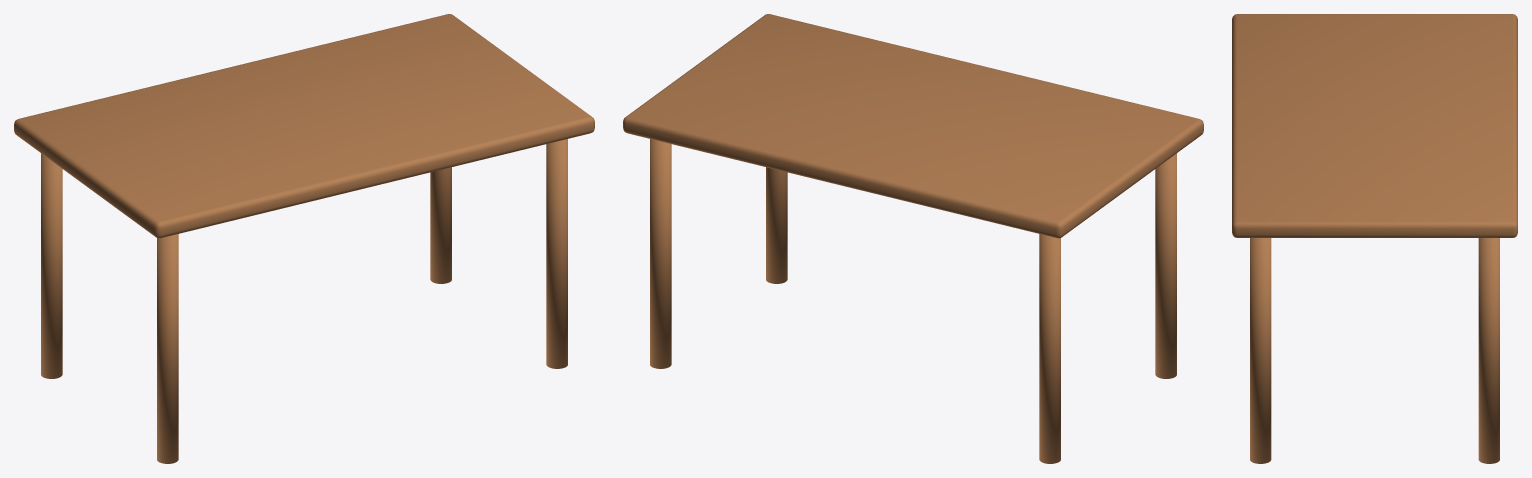
Rendered from table.glb.
3 renders of one model, left to right at view 1: azimuth 30°, elevation 25°; view 2: azimuth 150°, elevation 25°; view 3: azimuth 270°, elevation 25°, orthographic.
Visible parts, largest first — view 1: top, leg.008, leg.010, leg.009, leg.011; view 2: top, leg.009, leg.011, leg.008, leg.010; view 3: top, leg.010, leg.011.
Boxes of the visible parts, <box> form: top: <box>14,14,594,238</box>; leg.008: <box>157,234,178,463</box>; leg.010: <box>546,139,567,368</box>; leg.009: <box>41,153,62,378</box>; leg.011: <box>430,167,451,283</box>; top: <box>623,14,1203,238</box>; leg.009: <box>1039,234,1060,463</box>; leg.011: <box>650,139,671,368</box>; leg.008: <box>1155,153,1176,378</box>; leg.010: <box>766,167,787,283</box>; top: <box>1232,14,1517,237</box>; leg.010: <box>1250,238,1271,463</box>; leg.011: <box>1478,238,1499,463</box>.
Size of the model in its own units: 1.4 by 0.765 by 0.8.
